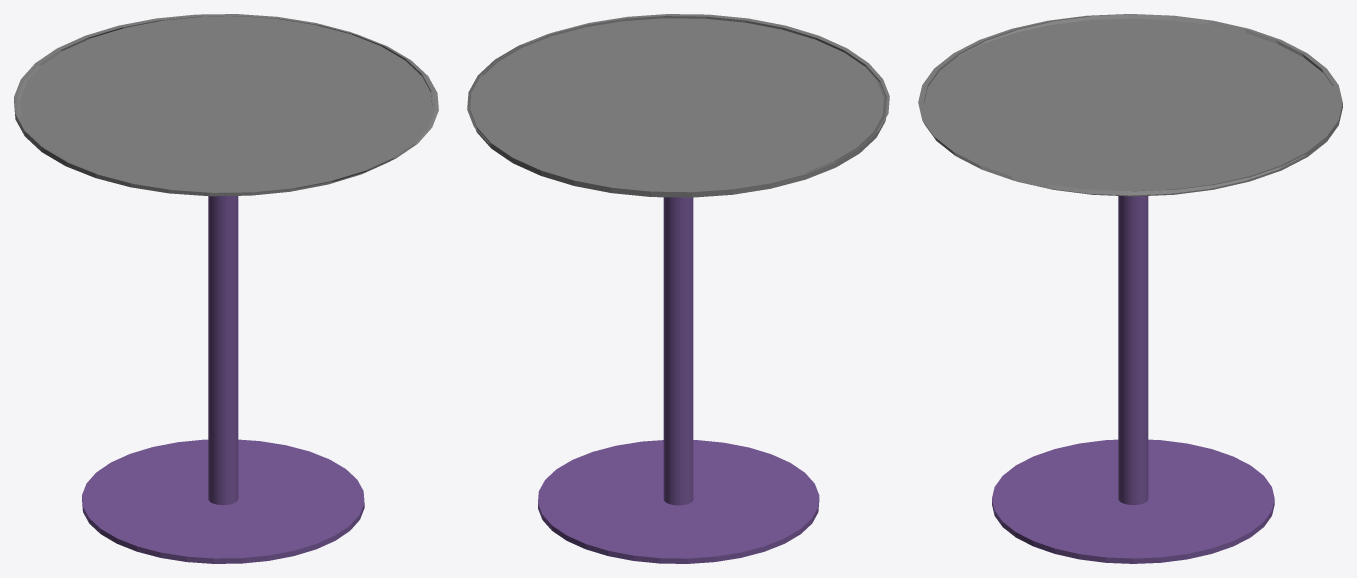
The model's file is BistroTable.glb.
3 views of the same model, side by side, from view 1: azimuth 30°, elevation 25°; view 2: azimuth 150°, elevation 25°; view 3: azimuth 270°, elevation 25° (orthographic).
Visible parts, largest first — view 1: Cylinder.002, Cylinder.004, Cylinder.003; view 2: Cylinder.002, Cylinder.004, Cylinder.003; view 3: Cylinder.002, Cylinder.004, Cylinder.003.
Part boxes in pixels (left/top/right/bottom): Cylinder.002: left=14, top=14, right=438, bottom=196; Cylinder.004: left=82, top=439, right=364, bottom=563; Cylinder.003: left=208, top=196, right=238, bottom=505; Cylinder.002: left=467, top=14, right=889, bottom=197; Cylinder.004: left=538, top=440, right=819, bottom=563; Cylinder.003: left=663, top=197, right=693, bottom=505; Cylinder.002: left=918, top=14, right=1342, bottom=196; Cylinder.004: left=992, top=439, right=1274, bottom=563; Cylinder.003: left=1118, top=196, right=1148, bottom=504.
Size of the model in its own units: 0.7091 by 0.746 by 0.7094.
